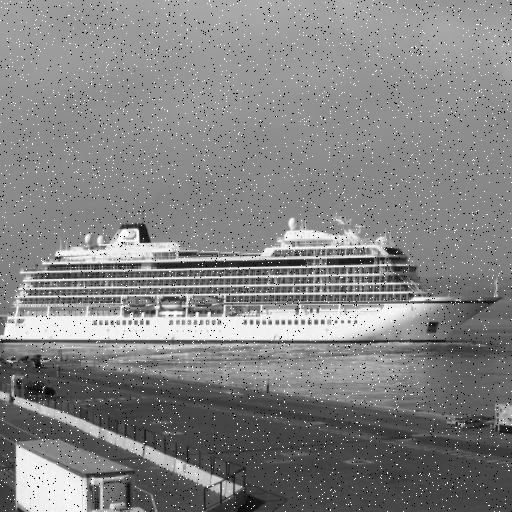cruises: (1, 209, 508, 348)
